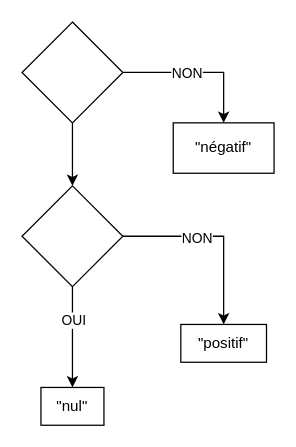
This 296x447 diagram has some shape labels left out. Here are the shapes that lost their labels. From the top down, the centre of each, then its label:
At point 72,72: "n >=0 ?".
At point 72,236: "n == 0 ?".
